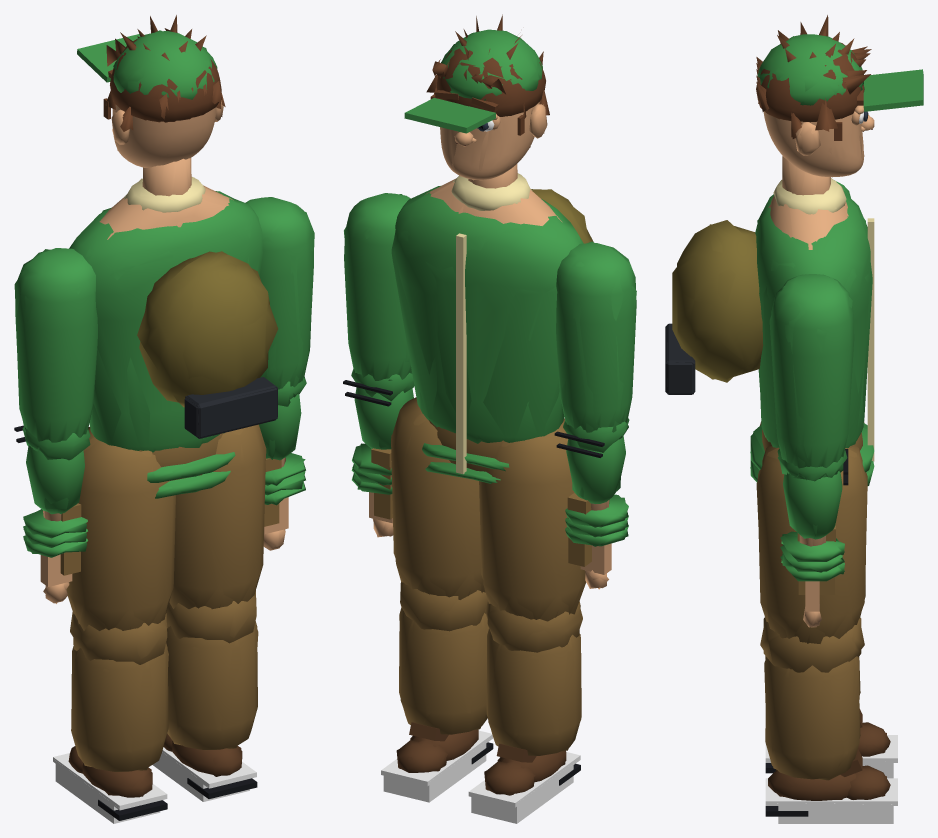
Rendered from char_ranger.glb.
The picture shows the model from 3 angles, left to right: view 1: azimuth 30°, elevation 25°; view 2: azimuth 150°, elevation 25°; view 3: azimuth 270°, elevation 25°; orthographic projection. The views are drawn at different scales.
Visible parts, largest first — view 1: lod_low, torso_jacket, leg_L_pant, arm_L_sleeve, leg_R_pant, torso_d_7a6a30, shin_L_pant, shin_R_pant, arm_R_sleeve, head_cap, torso_d_23262c, head_skull (+19 smaller); view 2: lod_low, torso_jacket, leg_L_pant, arm_L_sleeve, leg_R_pant, arm_R_sleeve, shin_L_pant, shin_R_pant, head_cap, head_skull, shin_L_d_f4f4f4, forearm_L_sleeve (+20 smaller); view 3: lod_low, arm_R_sleeve, leg_R_pant, torso_jacket, shin_R_pant, torso_d_7a6a30, head_cap, head_skull, forearm_R_sleeve, shin_R_d_5a3a22, shin_R_d_pants, head_hair (+14 smaller).
Part boxes in pixels (x1,y1,x2,y2): lod_low: [14, 15, 314, 822]; torso_jacket: [69, 191, 262, 452]; leg_L_pant: [66, 427, 175, 629]; arm_L_sleeve: [15, 248, 97, 451]; leg_R_pant: [174, 424, 265, 608]; torso_d_7a6a30: [139, 251, 269, 402]; shin_L_pant: [71, 643, 168, 771]; shin_R_pant: [167, 621, 257, 750]; arm_R_sleeve: [245, 197, 313, 397]; head_cap: [113, 31, 217, 99]; torso_d_23262c: [184, 377, 277, 438]; head_skull: [112, 105, 216, 167]; lod_low: [344, 14, 636, 819]; torso_jacket: [394, 186, 583, 443]; leg_L_pant: [479, 418, 584, 619]; arm_L_sleeve: [556, 243, 636, 432]; leg_R_pant: [391, 397, 484, 597]; arm_R_sleeve: [344, 193, 412, 380]; shin_L_pant: [486, 628, 581, 755]; shin_R_pant: [399, 607, 488, 734]; head_cap: [442, 29, 542, 99]; head_skull: [440, 102, 539, 180]; shin_L_d_f4f4f4: [468, 752, 580, 823]; forearm_L_sleeve: [566, 435, 625, 503]; lod_low: [667, 15, 893, 823]; arm_R_sleeve: [771, 274, 854, 480]; leg_R_pant: [757, 446, 867, 643]; torso_jacket: [755, 194, 870, 448]; shin_R_pant: [765, 656, 859, 779]; torso_d_7a6a30: [677, 220, 762, 382]; head_cap: [757, 34, 863, 105]; head_skull: [763, 111, 864, 177]; forearm_R_sleeve: [783, 471, 842, 539]; shin_R_d_5a3a22: [768, 748, 890, 800]; shin_R_d_pants: [763, 617, 861, 672]; head_hair: [756, 42, 864, 122].
Size of the model in its own units: 0.7727 by 1.96 by 0.6054.
